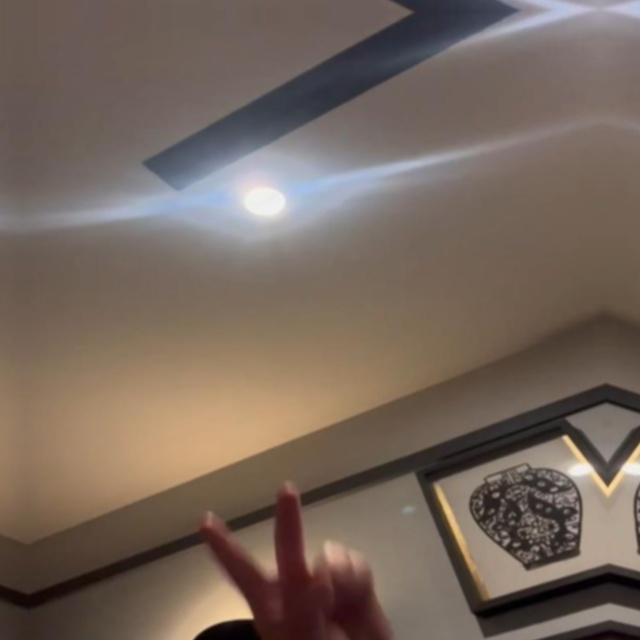Scissors: (195, 479, 400, 640)
